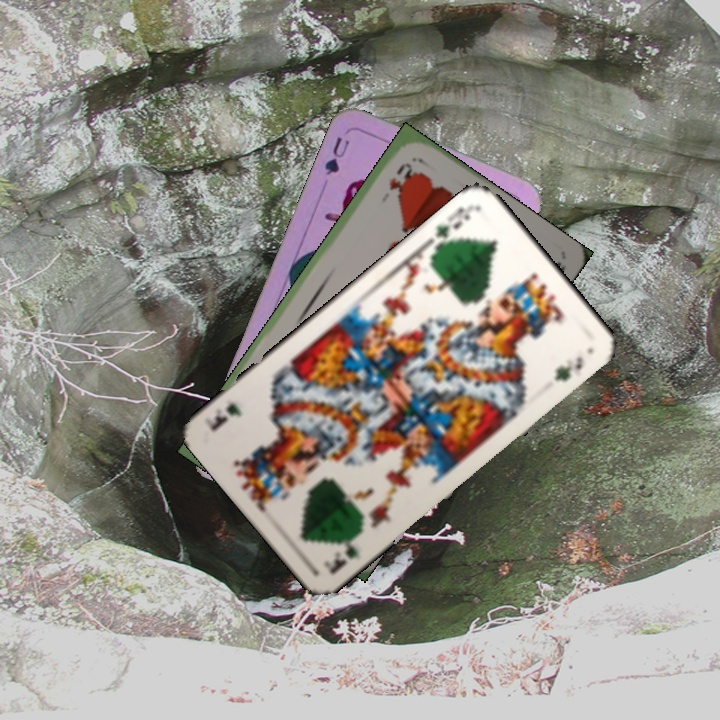GK: (424, 202, 476, 253), (319, 526, 365, 577)
GU: (320, 133, 353, 178)
HO: (385, 158, 415, 193)
